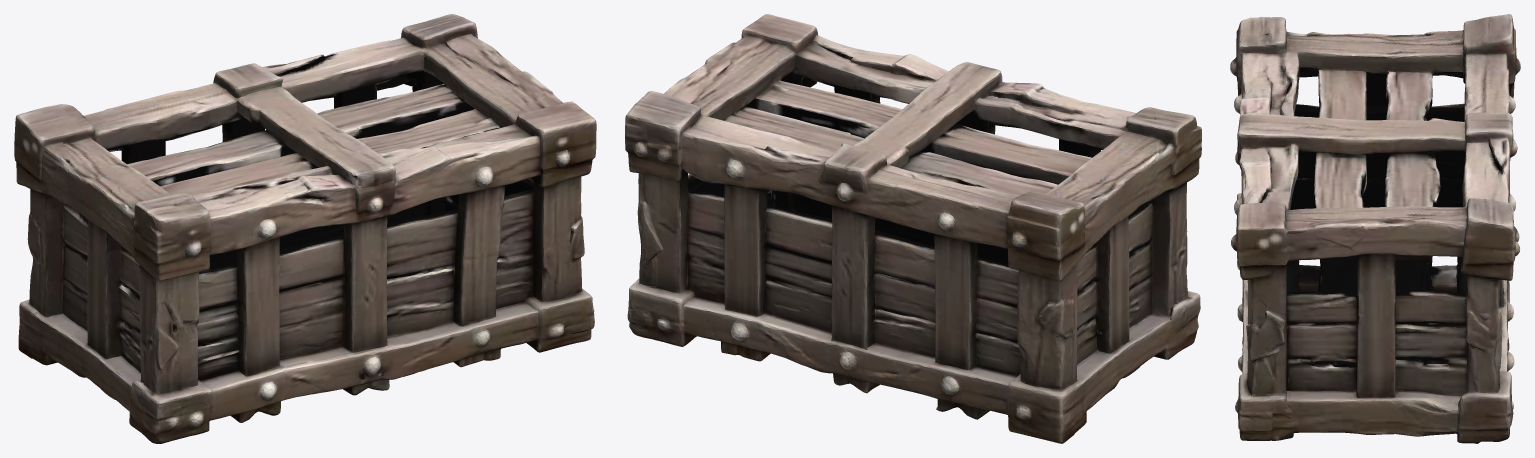
File: prop_wood_crate_broken_01.glb
The picture shows the model from 3 angles, left to right: view 1: azimuth 30°, elevation 25°; view 2: azimuth 150°, elevation 25°; view 3: azimuth 270°, elevation 25°; orthographic projection. The views are drawn at different scales.
Visible parts, largest first — view 1: geometry_0; view 2: geometry_0; view 3: geometry_0.
Boxes of the visible parts, x1,y1,x2,y2 form: geometry_0: (14, 14, 596, 443); geometry_0: (625, 14, 1201, 443); geometry_0: (1230, 14, 1520, 443).
Bounding box in the file's own units: 1 × 0.5271 × 0.5905.
Materials: 1 (1 with a texture image).
